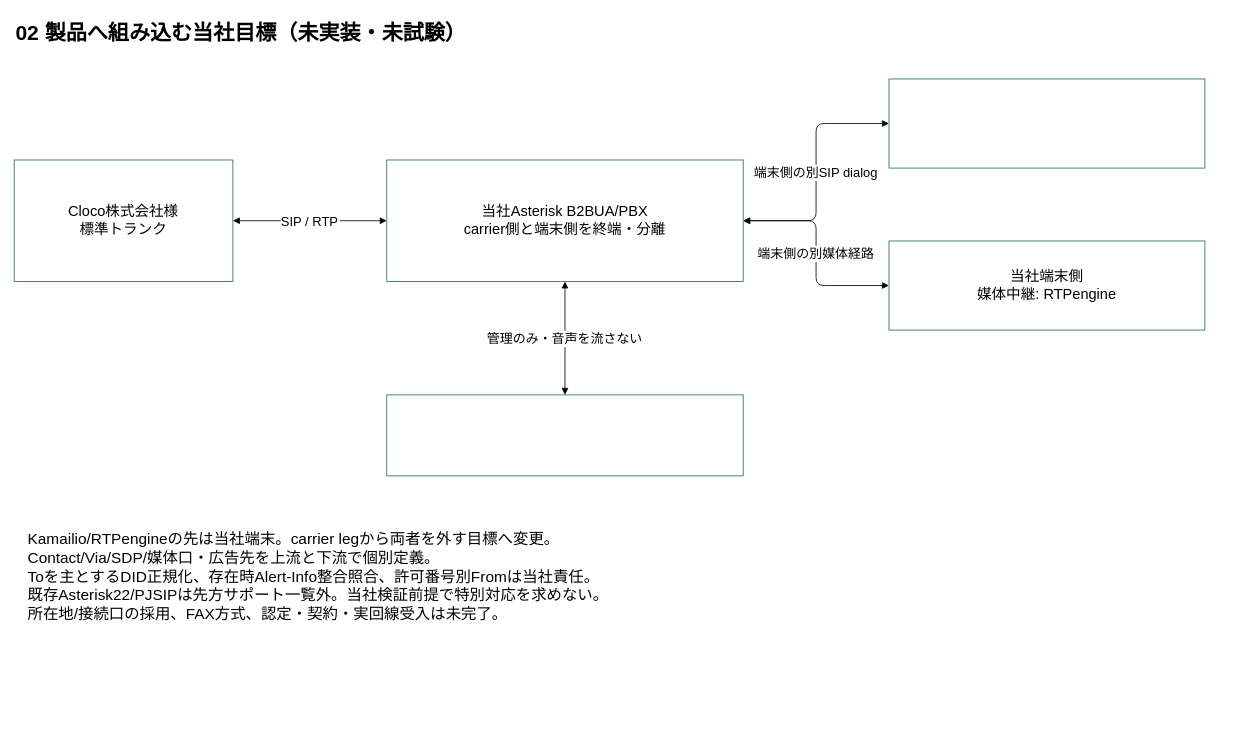
This 1247x748 diagram has some shape labels left out. The centre of each missing label's shape, as x and y in pixels:
"当社端末側 SBC: Kamailio" goes at (1046,123).
"管理API・DB 設定・権限・履歴/FAX結果" goes at (564,435).
